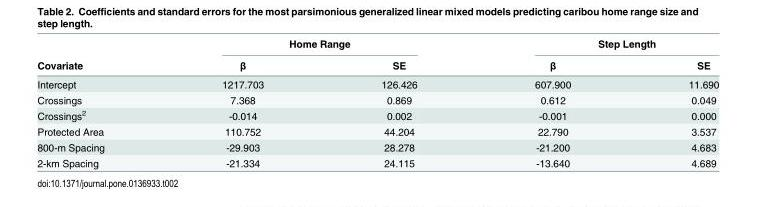table: (36, 37, 718, 168)
table column: (162, 37, 321, 168), (321, 37, 475, 168), (475, 37, 629, 168), (36, 37, 162, 168), (629, 37, 718, 168)
table column header: (36, 37, 718, 74)
table row: (36, 53, 718, 74), (36, 74, 718, 91), (36, 106, 718, 123), (36, 37, 718, 53), (36, 123, 718, 139), (36, 91, 718, 106), (36, 139, 718, 154), (36, 154, 718, 168)
table spanning cell: (162, 37, 475, 53), (36, 37, 162, 74), (475, 37, 718, 53)
